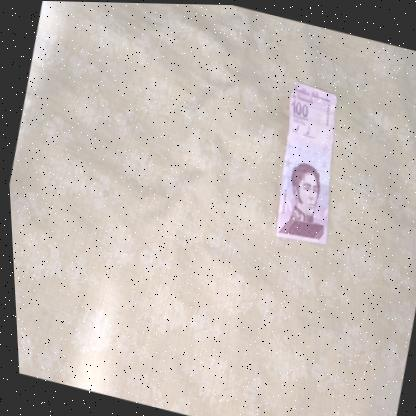one_hundred-front-vef: (257, 76, 360, 249)
